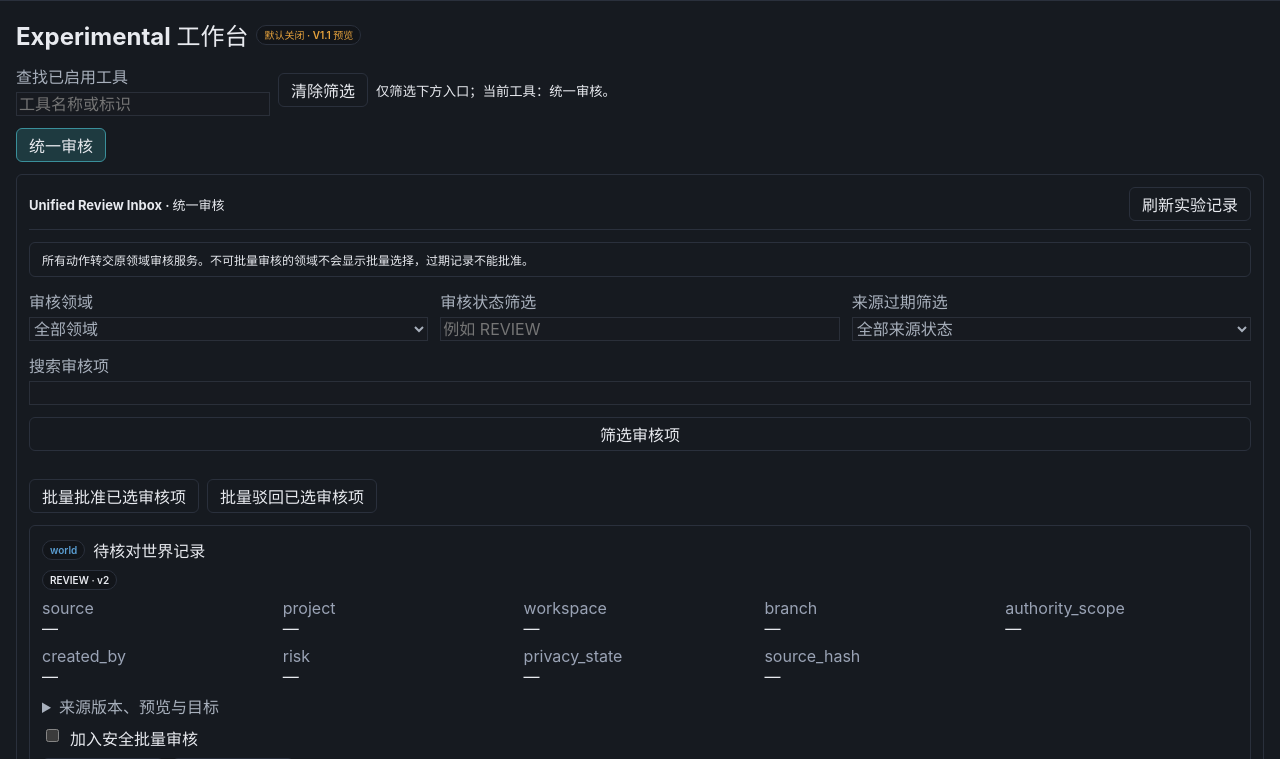
Test: default-off Experimental UI › uses the domain batch allowlist and reports partial results without retrying
Click the checkbox labelled "加入安全批量审核": (52, 736) [46,729,59,742]
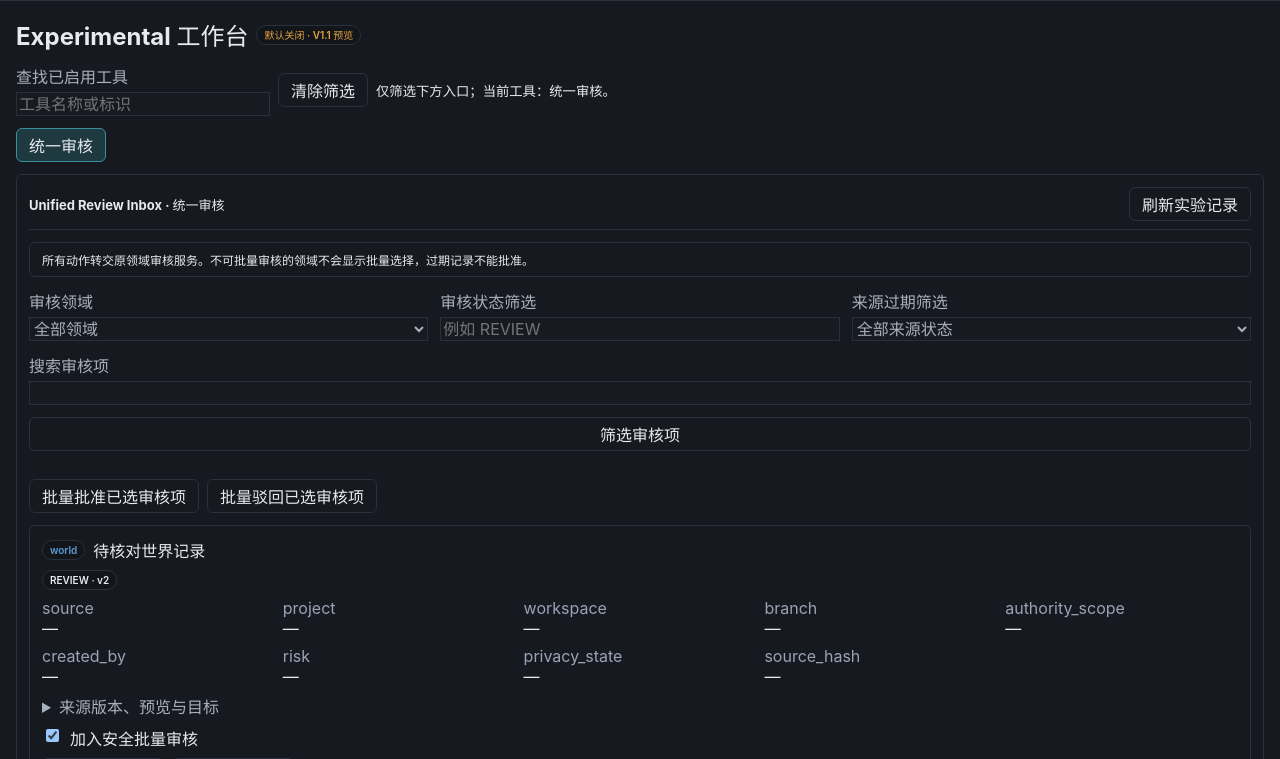
Expected: the button "批量批准已选审核项" is disabled, [29,479,199,513]
Click the button "批量驳回已选审核项": (292, 496) [207,479,377,513]
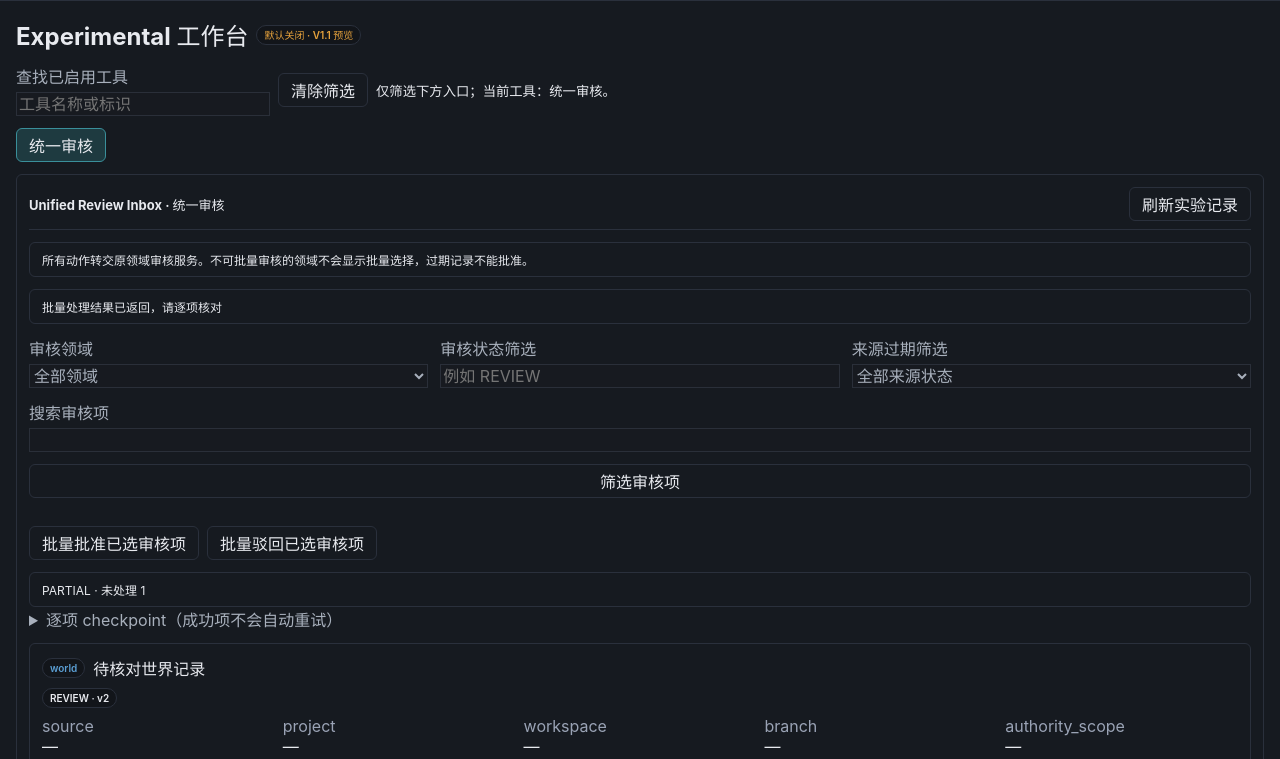
Expected: the text "PARTIAL · 未处理 1" is shown, [29,572,1251,607]
